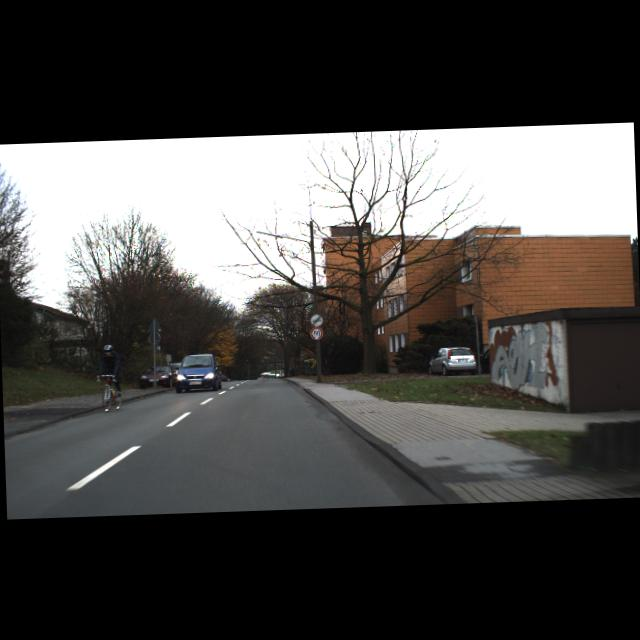other: (310, 312, 322, 326)
prohibitory: (309, 326, 322, 338)
